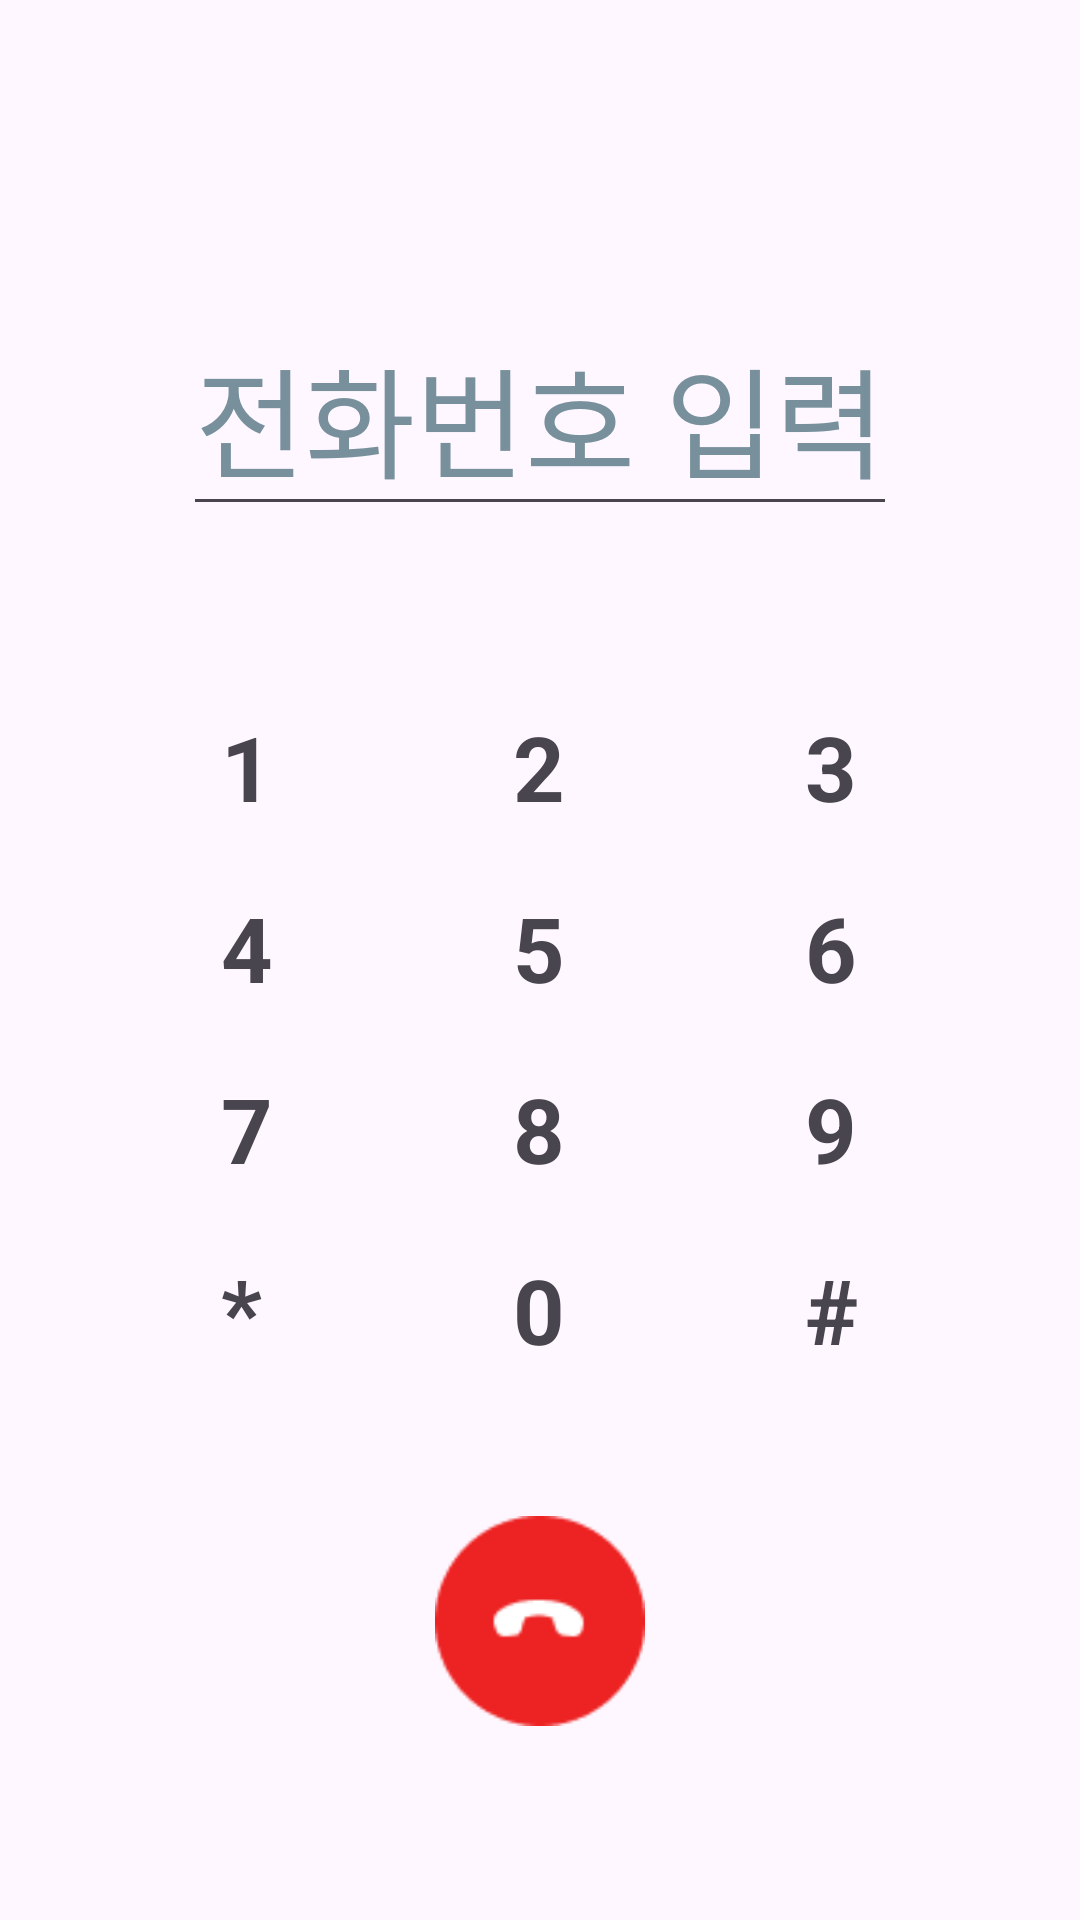

Named icons in this screenshot (1080 × 1920) and their bounding boxes, {"x1": x1, "y1": y1, "x2": x2, "y2": y2}:
call: {"x1": 435, "y1": 1516, "x2": 645, "y2": 1726}
